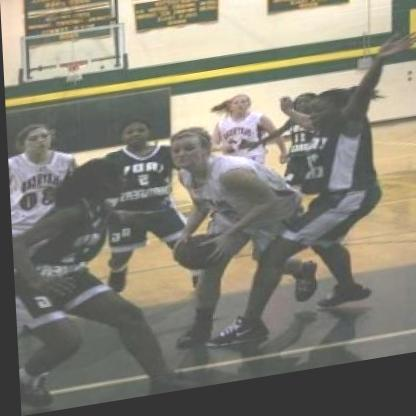basketball: (172, 236, 215, 283)
